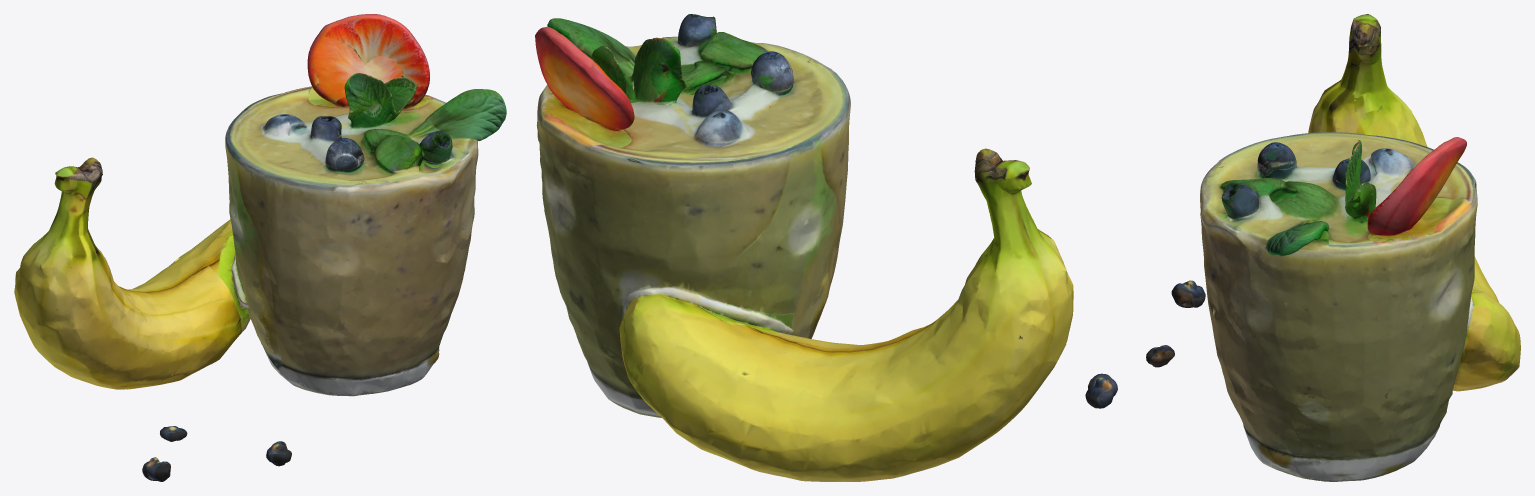
The model's file is banana_smoothie.glb.
3 renders of one model, left to right at view 1: azimuth 30°, elevation 25°; view 2: azimuth 150°, elevation 25°; view 3: azimuth 270°, elevation 25°, orthographic. The views are drawn at different scales.
Size of the model in its own units: 2 by 1.3 by 1.31.
1 material, 1 textured.
